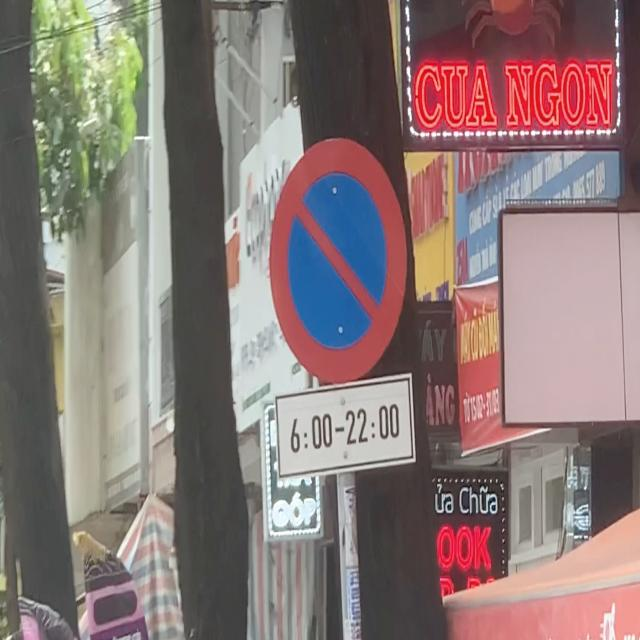Cam do: (268, 134, 408, 378)
